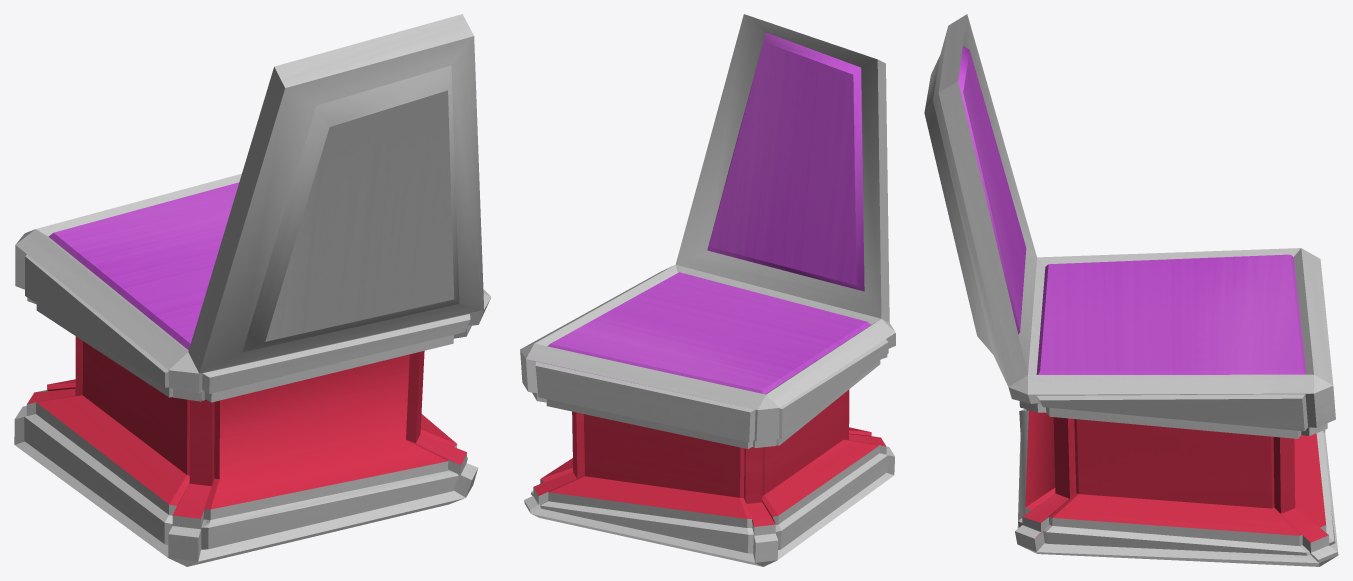
Rendered from Chair.fbx.
The picture shows the model from 3 angles, left to right: view 1: azimuth 30°, elevation 25°; view 2: azimuth 150°, elevation 25°; view 3: azimuth 270°, elevation 25°; orthographic projection. The views are drawn at different scales.
Parts seen in each view (by area): view 1: SideTable; view 2: SideTable; view 3: SideTable.
Boxes of the visible parts, left/top/right/bottom form: SideTable: left=14, top=14, right=491, bottom=566; SideTable: left=520, top=14, right=895, bottom=566; SideTable: left=924, top=14, right=1338, bottom=566.
Size of the model in its own units: 75.01 by 112 by 91.81.
